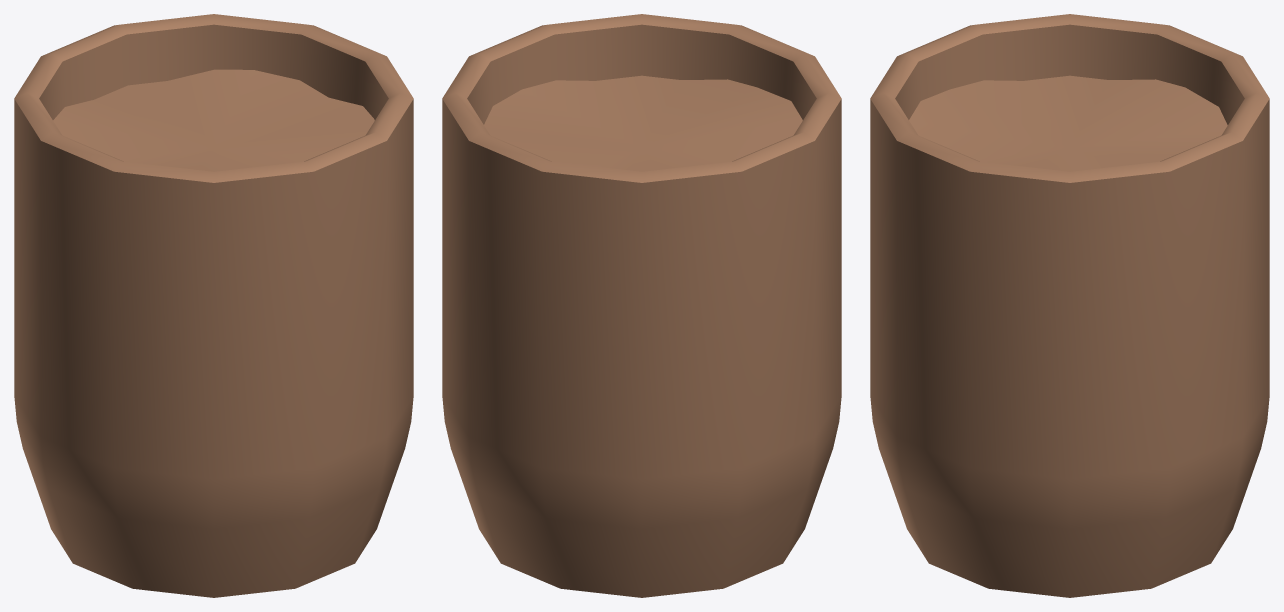
The model's file is g_mead.fbx.
3 renders of one model, left to right at view 1: azimuth 30°, elevation 25°; view 2: azimuth 150°, elevation 25°; view 3: azimuth 270°, elevation 25°, orthographic.
Parts seen in each view (by area): view 1: g_mead; view 2: g_mead; view 3: g_mead.
Boxes of the visible parts, left/top/right/bottom form: g_mead: left=14, top=14, right=413, bottom=597; g_mead: left=442, top=14, right=841, bottom=597; g_mead: left=870, top=14, right=1269, bottom=597.
Bounding box in the file's own units: 28.6 × 28.6 × 34.45.
